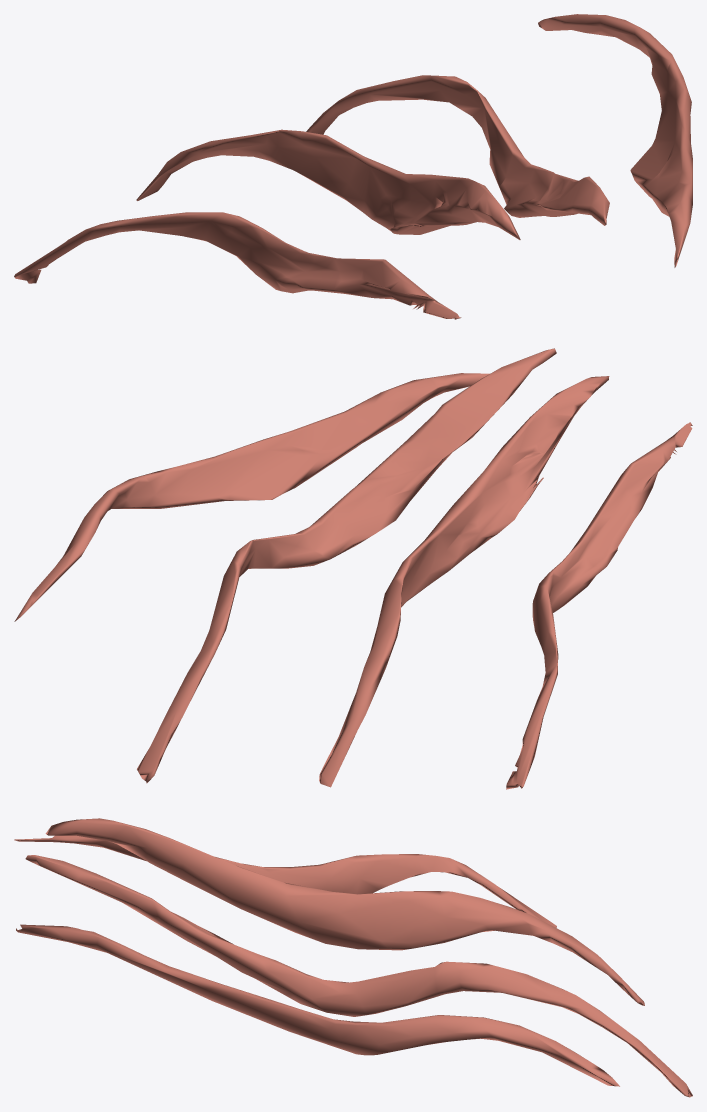
3 views of the same model, one above another, from view 1: azimuth 30°, elevation 25°; view 2: azimuth 150°, elevation 25°; view 3: azimuth 270°, elevation 25° (orthographic). The views are drawn at different scales.
Parts seen in each view (by area): view 1: 左侧蚓状肌; view 2: 左侧蚓状肌; view 3: 左侧蚓状肌.
Boxes of the visible parts, left/top/right/bottom form: 左侧蚓状肌: left=14, top=14, right=692, bottom=319; 左侧蚓状肌: left=14, top=348, right=692, bottom=789; 左侧蚓状肌: left=14, top=818, right=692, bottom=1097.
Size of the model in its own units: 0.1116 by 0.0473 by 0.1369.
